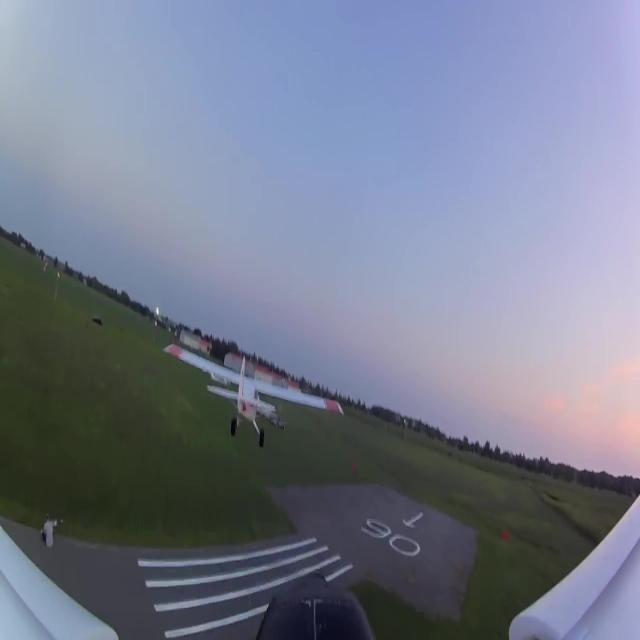iha: (162, 365, 344, 412)
